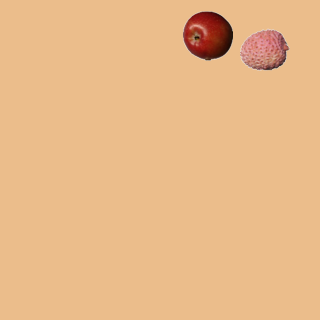Apple Braeburn: (182, 10, 232, 60)
Lychee: (239, 24, 289, 74)
